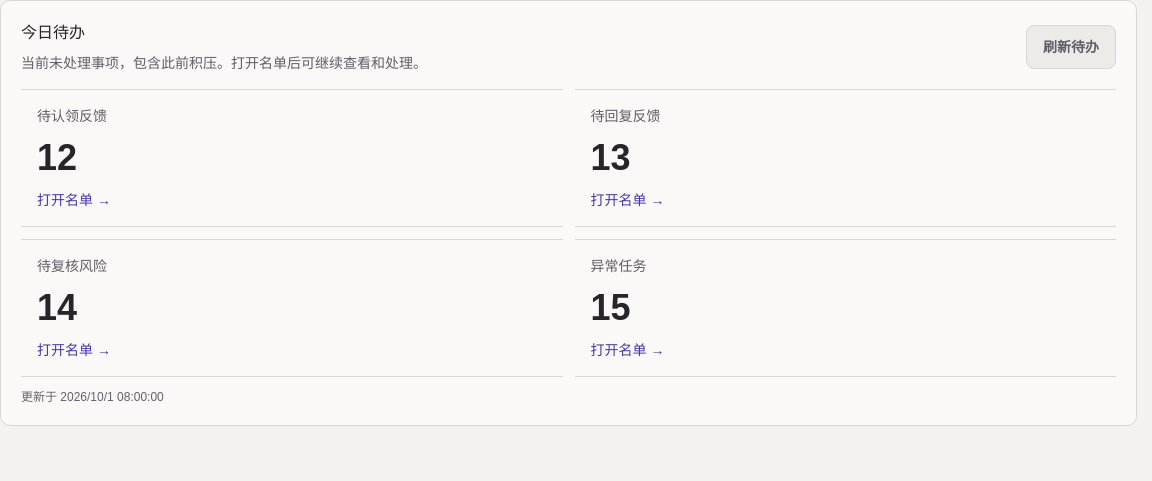
Test case: allows explicitly retrying a read failure and updates the counts without changing drilldown destinations
expect the text "12" is shown: met, box [37, 137, 77, 178]
Click the button "刷新待办": (1071, 47) [1026, 25, 1116, 69]
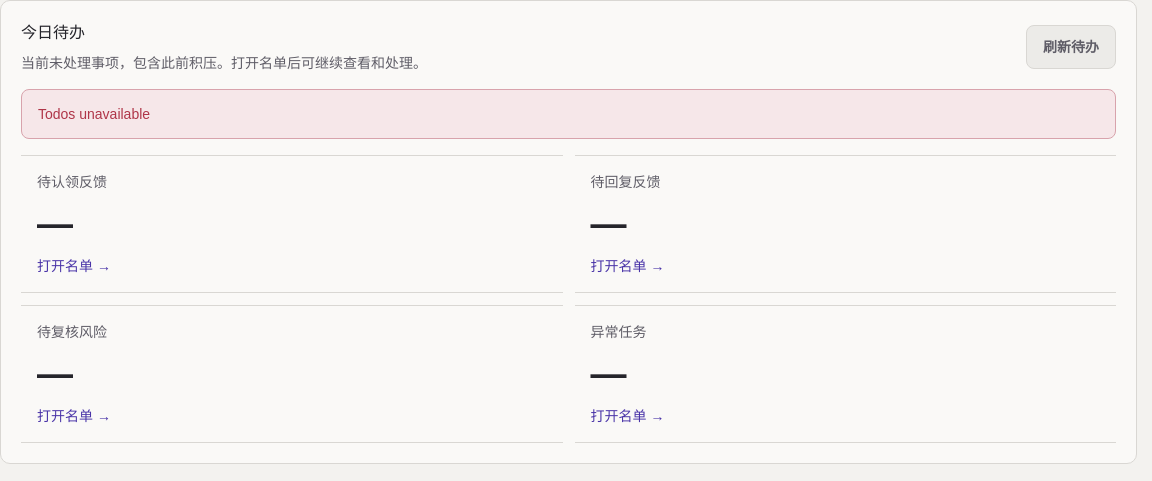
expect the message reads "Todos unavailable": met, box [38, 106, 150, 122]
expect the text "—" below "待认领反馈" is shown: met, box [37, 203, 73, 244]
Click the button "刷新待办": (1071, 47) [1026, 25, 1116, 69]
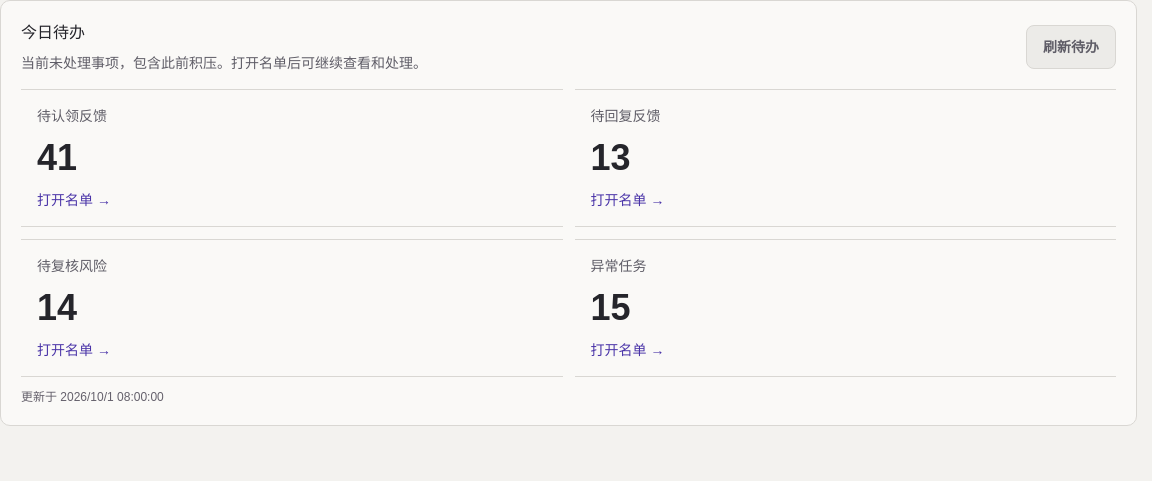
expect the text "41" is shown: met, box [37, 137, 77, 178]
expect the message "Todos unavailable" is gone: met
